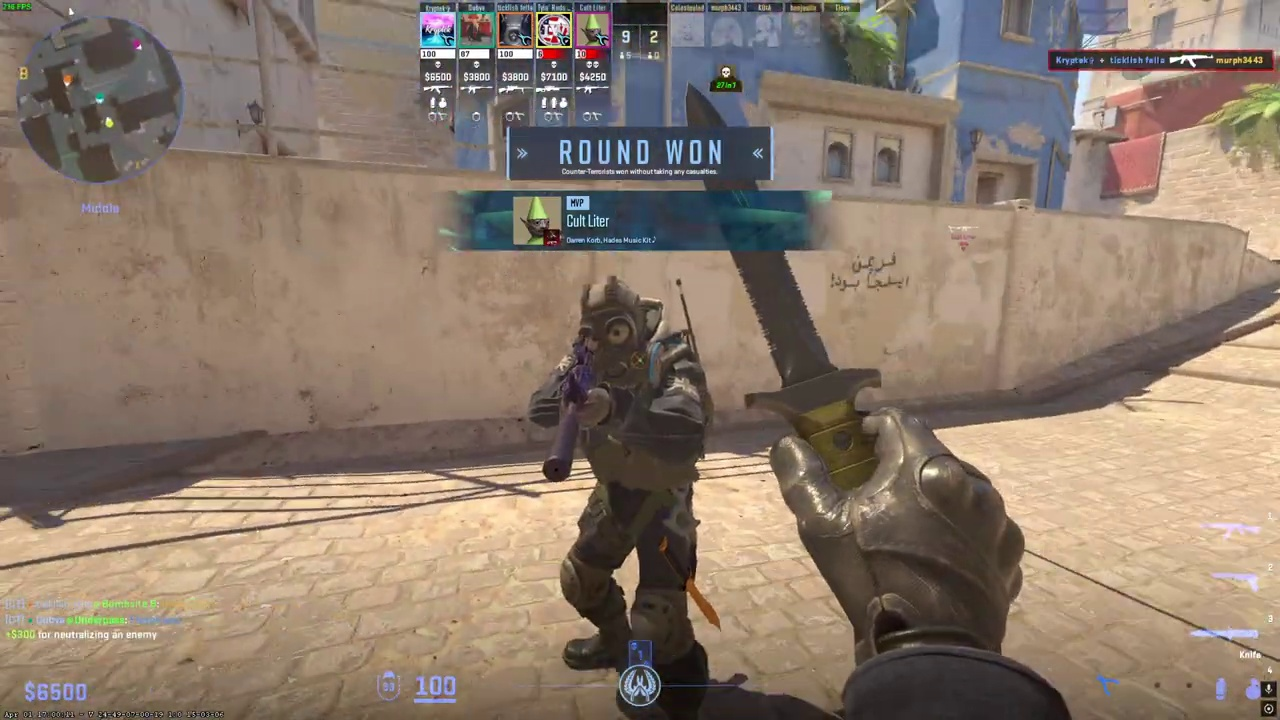CT: (540, 275, 715, 719)
